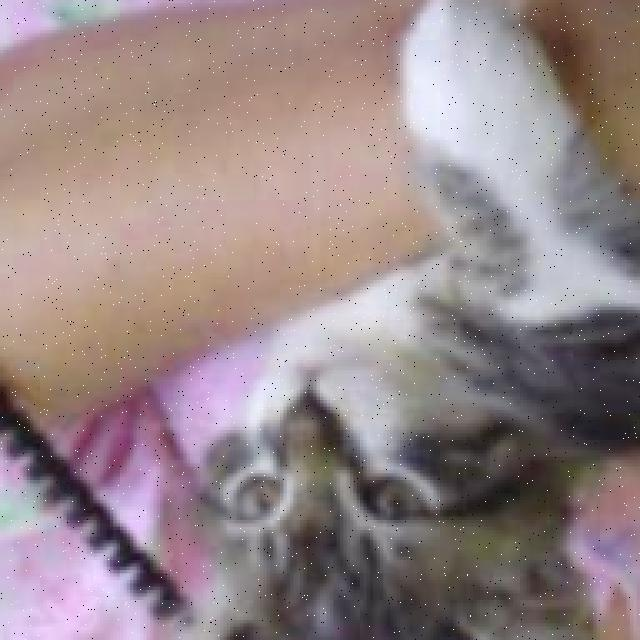Cat: (104, 283, 634, 640)
